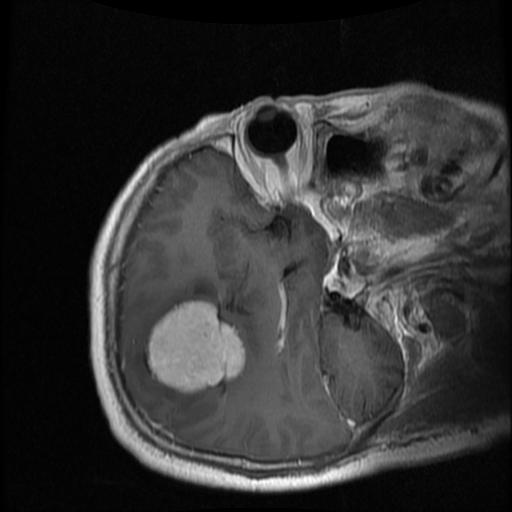meningioma: (146, 300, 244, 393)
